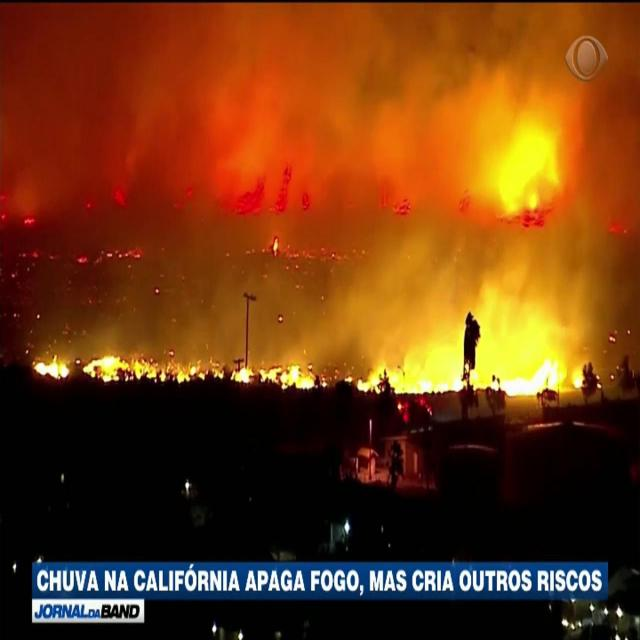Fire: (32, 356, 322, 392), (358, 362, 594, 396), (503, 120, 565, 223), (272, 237, 278, 255)
